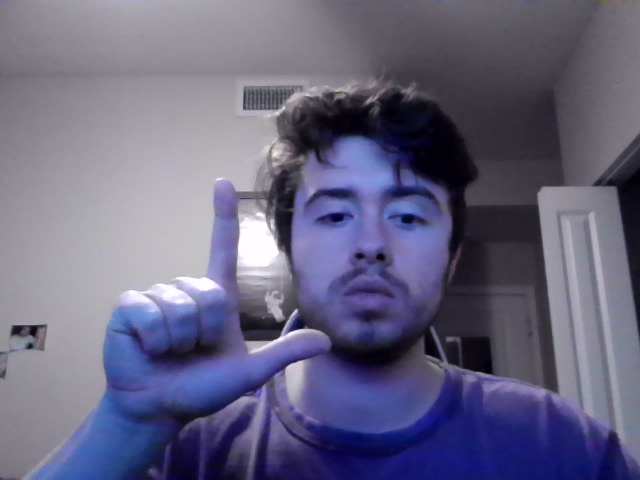l: (103, 178, 332, 437)
